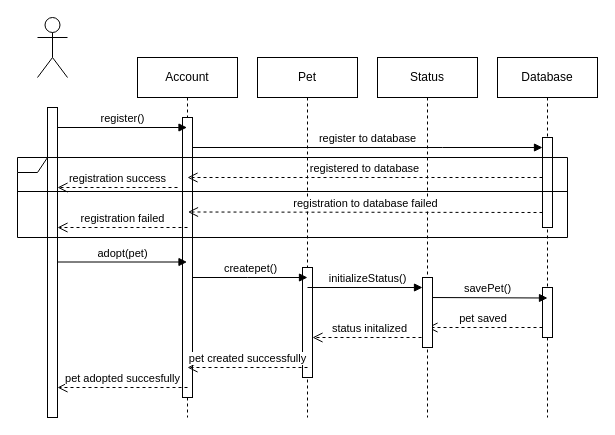
Some shapes in this 615 by 435 pixel diagram are drawn without their labels. Each missing label, with the box of its shape:
alt: (16, 156, 568, 238)
User: (36, 16, 68, 78)
